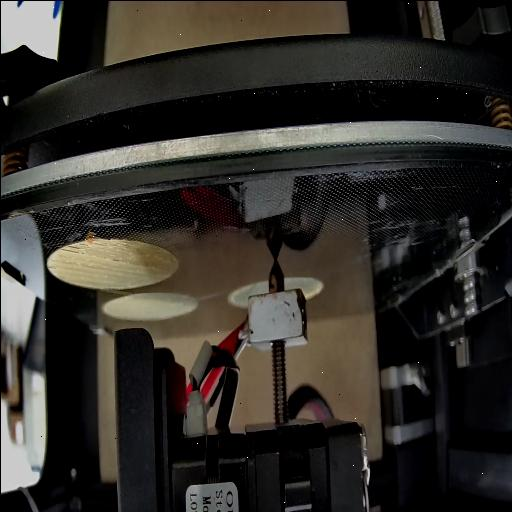under_extrusion: (62, 239, 88, 255), (92, 236, 110, 248), (46, 260, 60, 274), (109, 255, 124, 263)
